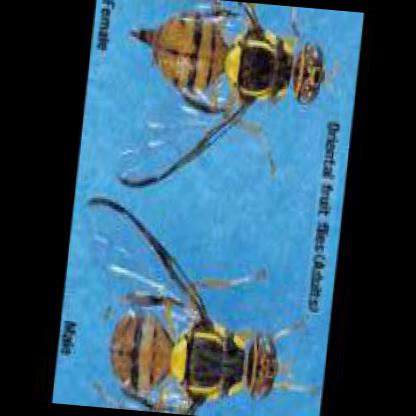fruit fly: (88, 200, 301, 411), (124, 16, 327, 182)
